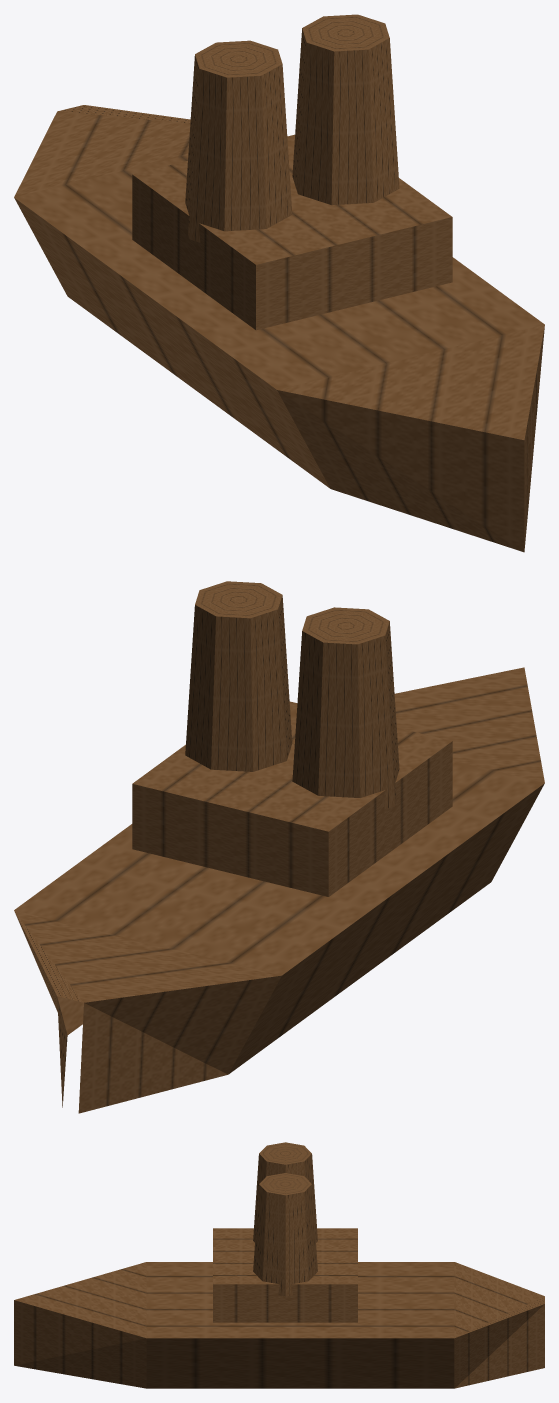
The model's file is military-FIRE_SHIP-1-lod1.glb.
3 views of the same model, one above another, from view 1: azimuth 30°, elevation 25°; view 2: azimuth 150°, elevation 25°; view 3: azimuth 270°, elevation 25° (orthographic). The views are drawn at different scales.
Size of the model in its own units: 0.3 by 0.36 by 0.88.
Materials: 1 (1 with a texture image).
